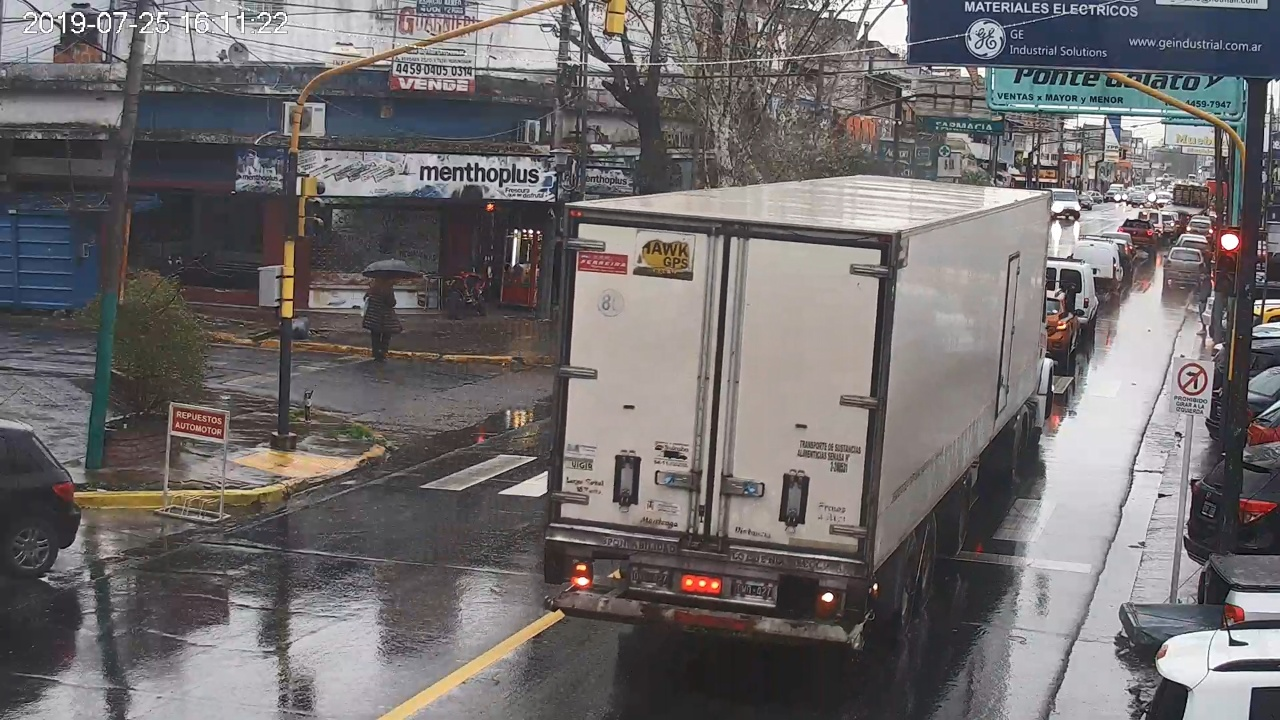traffic light: (1216, 230, 1239, 293)
truck: (544, 175, 1076, 650)
